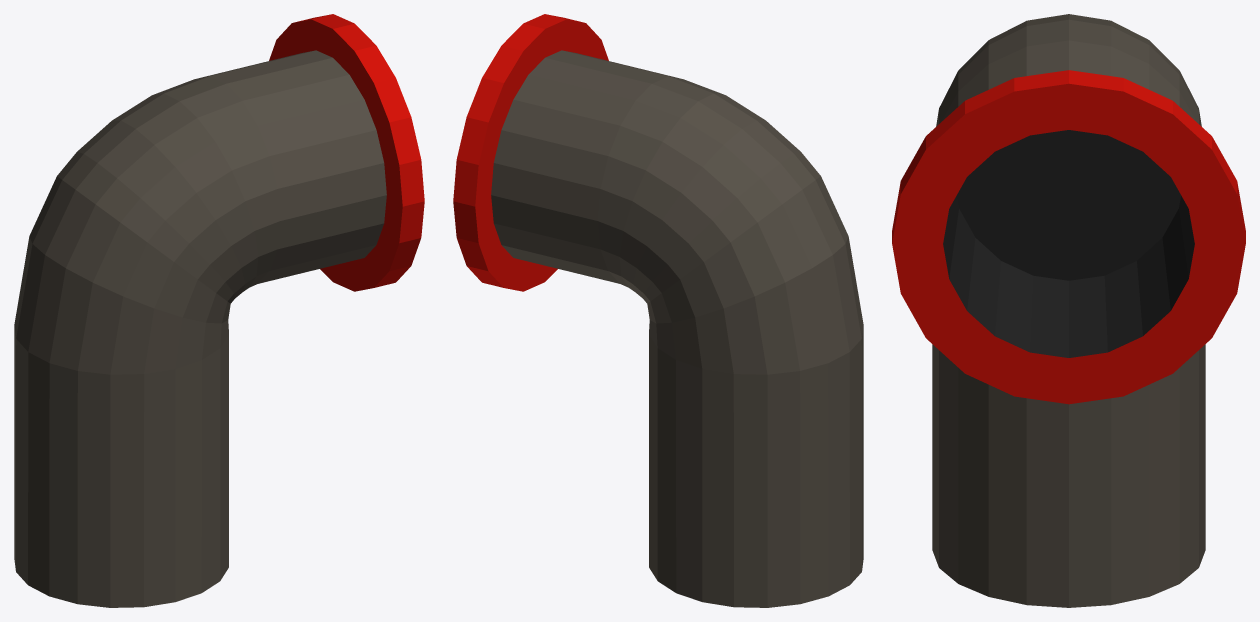
Rendered from ProjectSettings.fbx.
3 renders of one model, left to right at view 1: azimuth 30°, elevation 25°; view 2: azimuth 150°, elevation 25°; view 3: azimuth 270°, elevation 25°, orthographic. The views are drawn at different scales.
Parts seen in each view (by area): view 1: PipeBent; view 2: PipeBent; view 3: PipeBent.
Boxes of the visible parts, x1,y1,x2,y2 form: PipeBent: (14, 14, 424, 607); PipeBent: (453, 14, 863, 607); PipeBent: (892, 14, 1245, 607).
Bounding box in the file's own units: 87.07 × 123 × 64.46.
